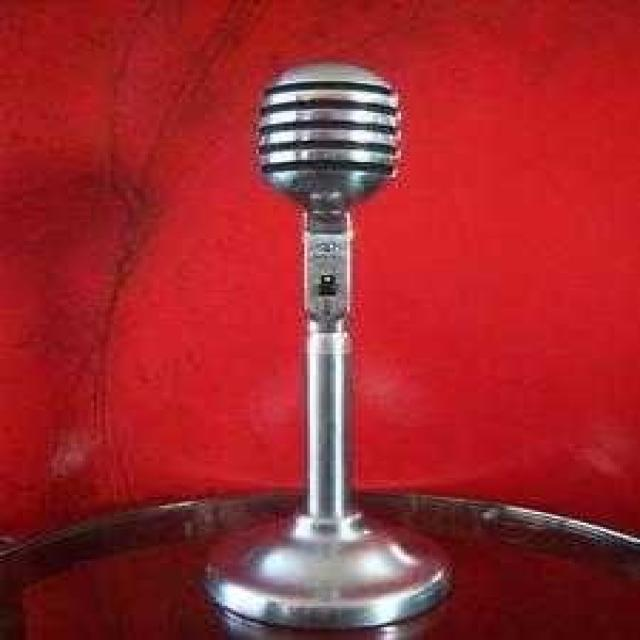microphone: (262, 59, 396, 332)
